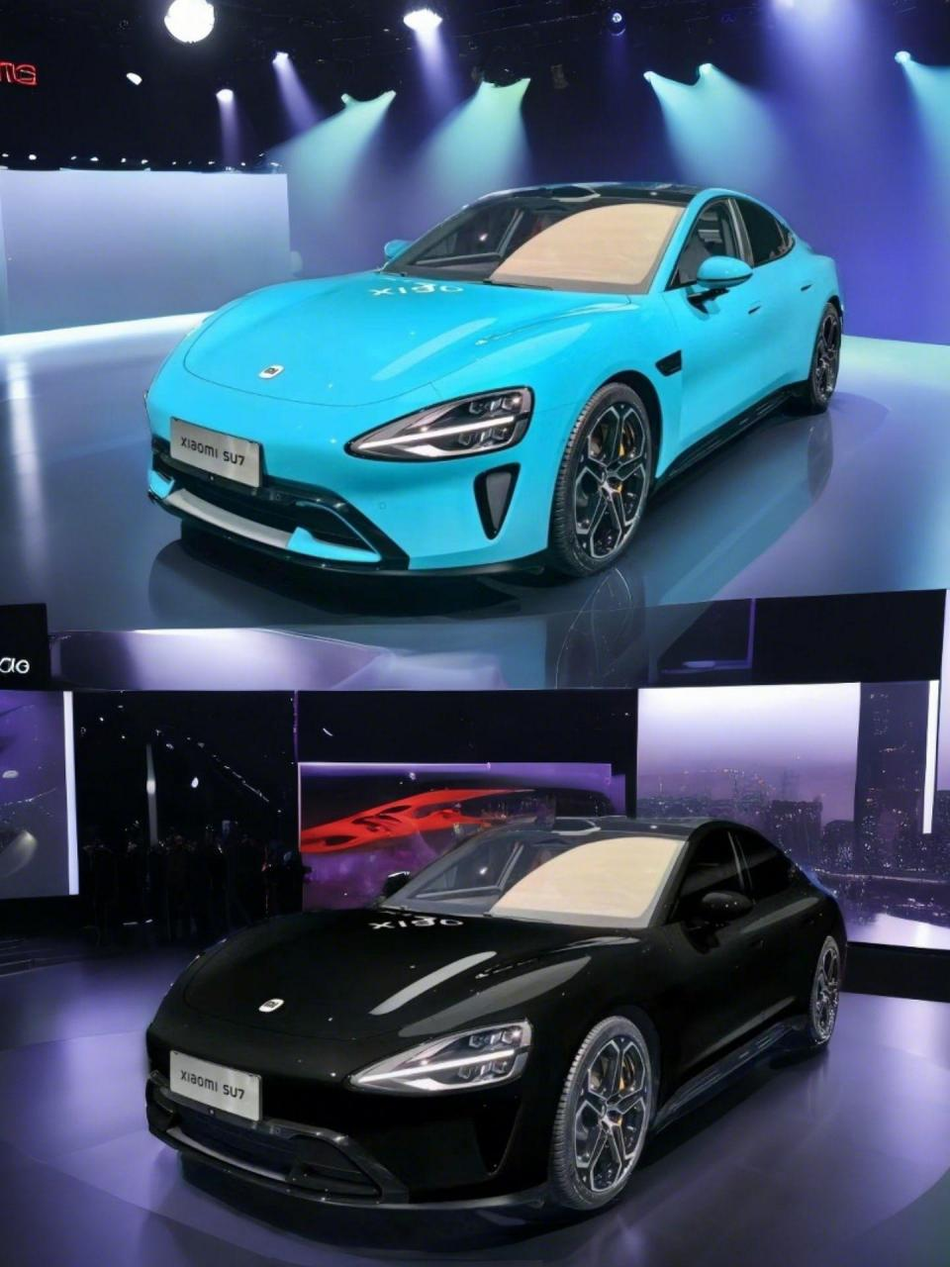su7: (141, 808, 845, 1228), (135, 183, 839, 589)
